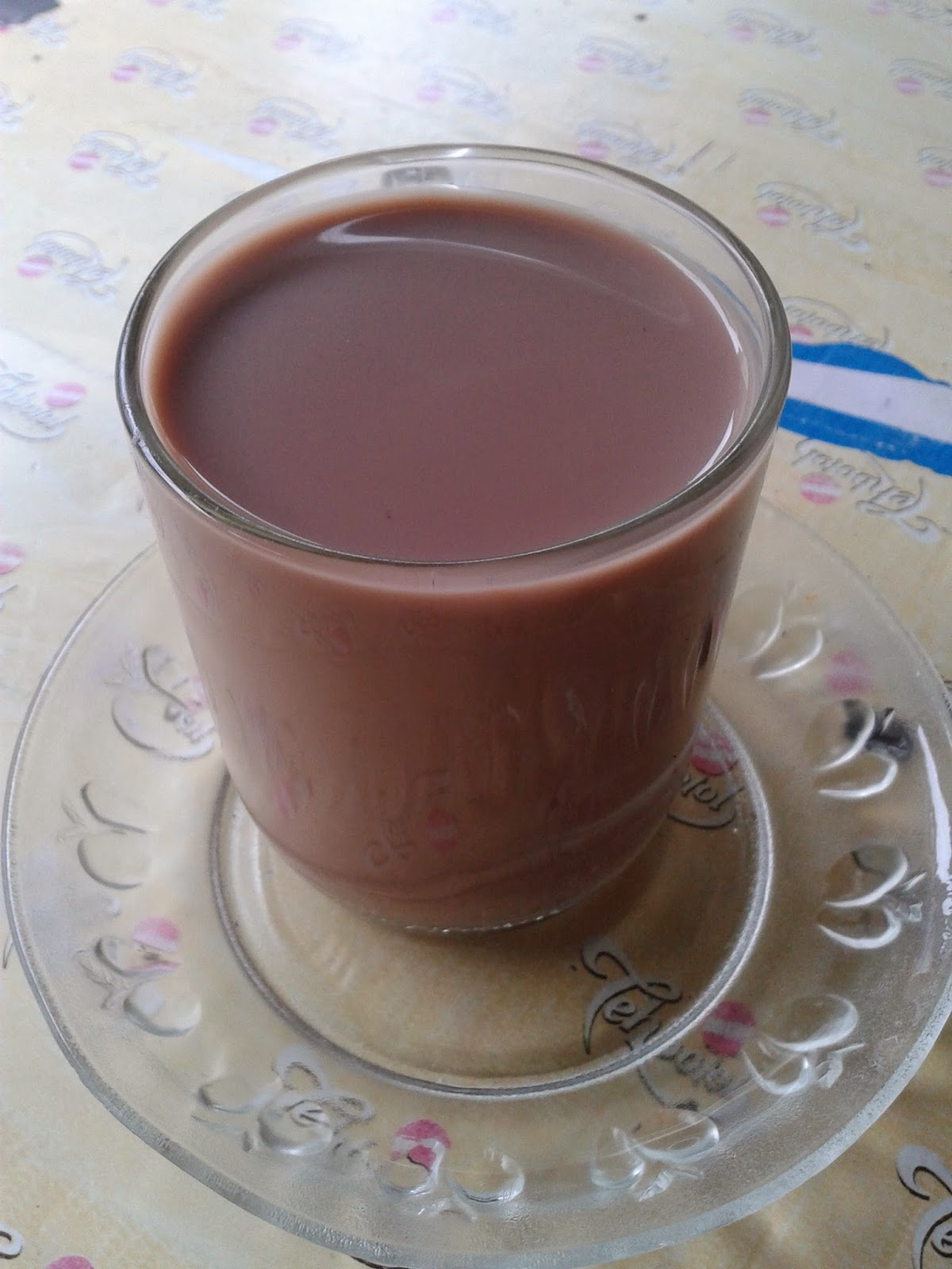produk_susu: (275, 210, 662, 870)
